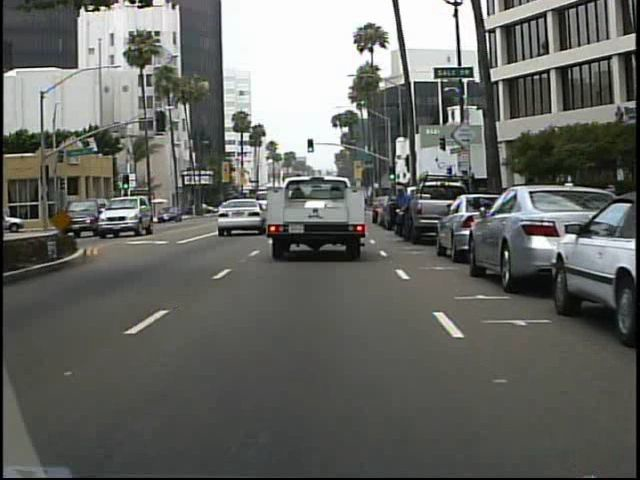person: (389, 184, 408, 232)
